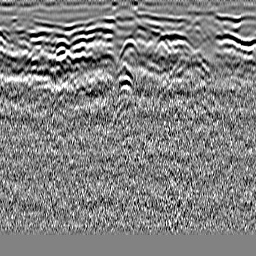cavity: (119, 36, 138, 59)
